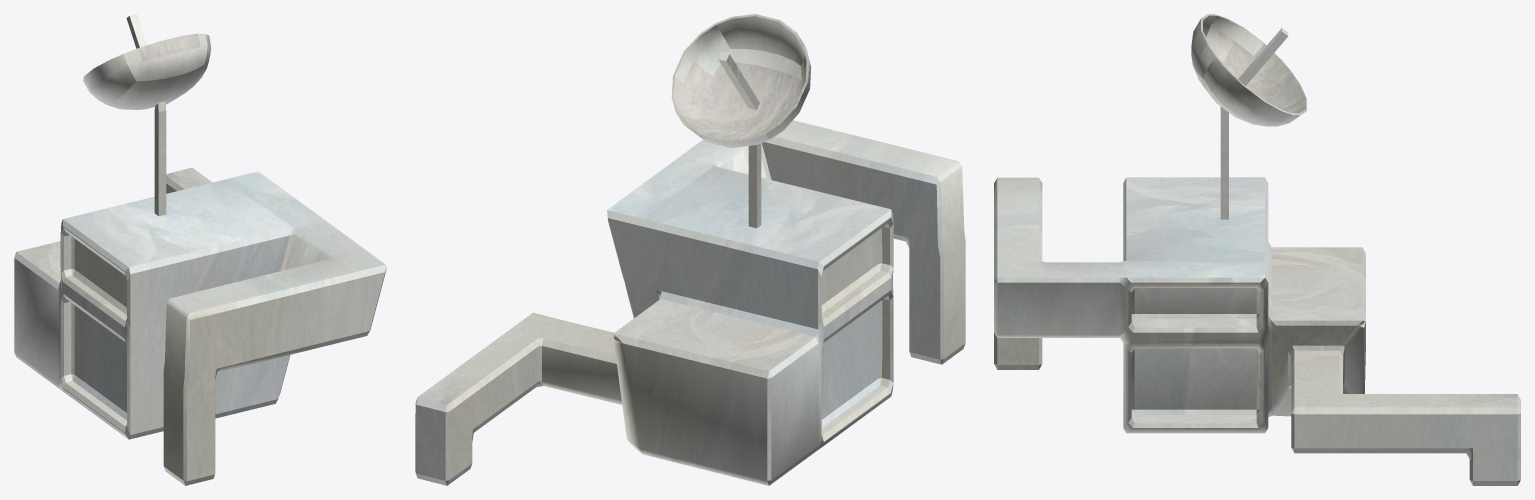
Rendered from baza.FBX.
The picture shows the model from 3 angles, left to right: view 1: azimuth 30°, elevation 25°; view 2: azimuth 150°, elevation 25°; view 3: azimuth 270°, elevation 25°; orthographic projection. The views are drawn at different scales.
Visible parts, largest first — view 1: Box001; view 2: Box001; view 3: Box001.
Part boxes in pixels (x1,y1,x2,y2): Box001: (14, 14, 386, 485); Box001: (415, 14, 965, 485); Box001: (994, 14, 1520, 485).
Bounding box in the file's own units: 359 × 602 × 472.
Materials: 1 (1 with a texture image).
